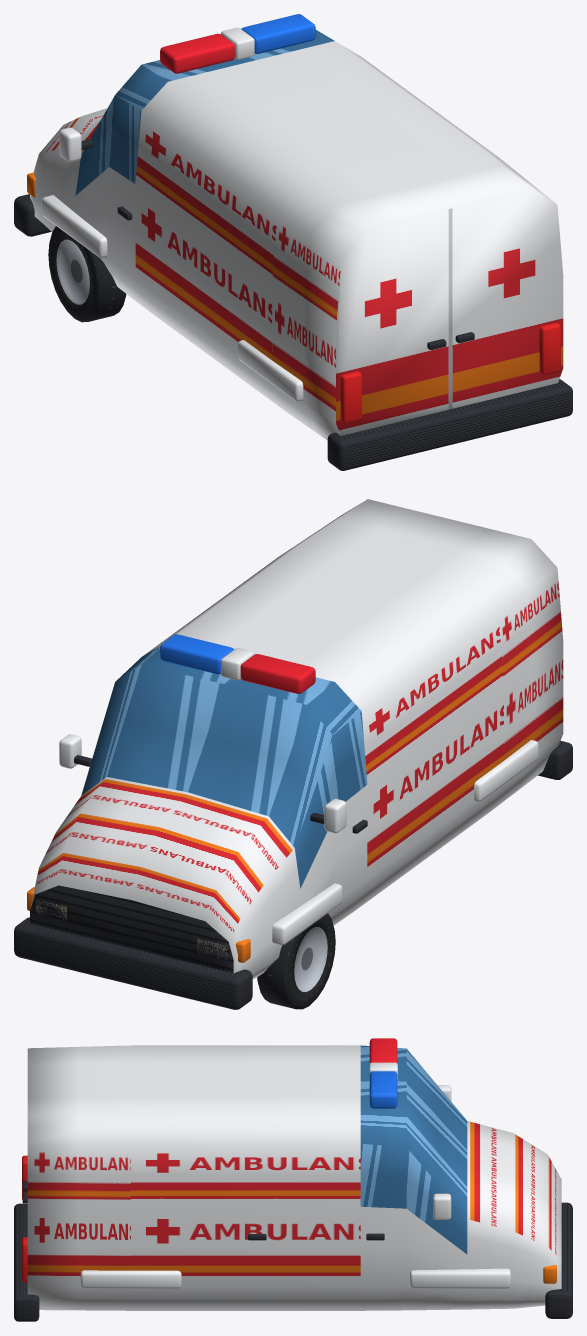
Rendered from mobil_ambulans.fbx.
3 views of the same model, one above another, from view 1: azimuth 30°, elevation 25°; view 2: azimuth 150°, elevation 25°; view 3: azimuth 270°, elevation 25° (orthographic). The views are drawn at different scales.
Visible parts, largest first — view 1: ShellBody, WheelPiece; view 2: ShellBody, WheelPiece; view 3: ShellBody.
Part boxes in pixels (x1=…): ShellBody: x1=14, y1=14, x2=572, y2=470; WheelPiece: x1=48, y1=226, x2=126, y2=322; ShellBody: x1=14, y1=499, x2=572, y2=1009; WheelPiece: x1=257, y1=913, x2=335, y2=1009; ShellBody: x1=14, y1=1038, x2=572, y2=1321.
Size of the model in its own units: 8.24 by 8.15 by 17.
1 material, 1 textured.
